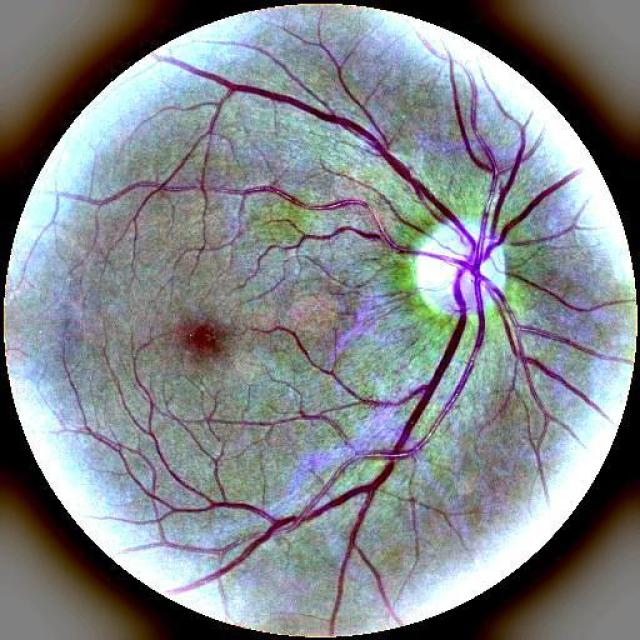Macula: (189, 324, 215, 352)
Nerves: (165, 56, 604, 634)
Optic Disk: (415, 224, 504, 314)
